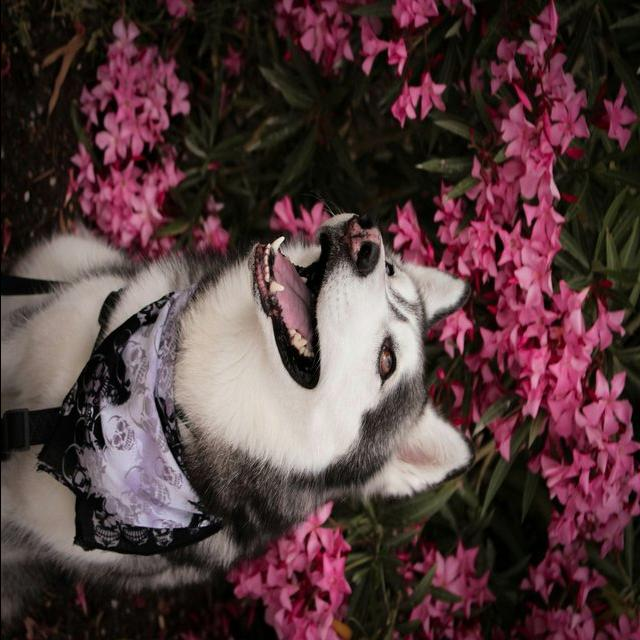husky: (2, 210, 475, 624)
